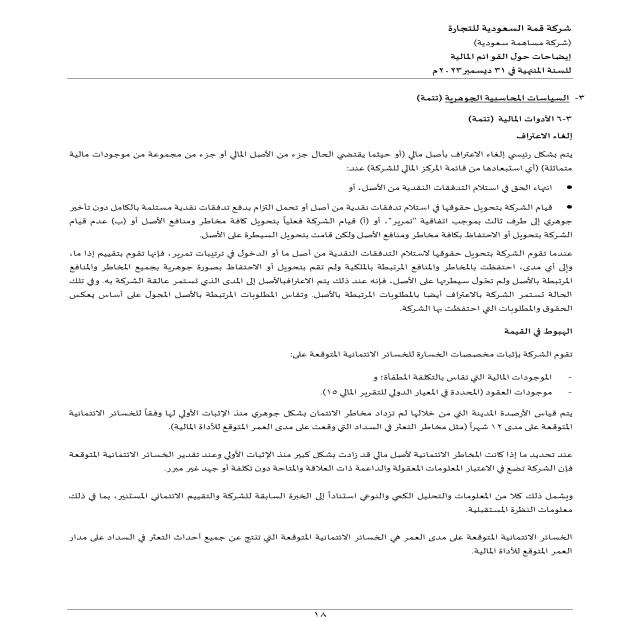notes: (443, 51, 584, 62)
text: (21, 86, 596, 584)
